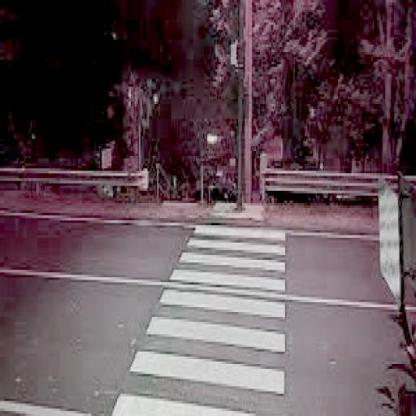crosswalk: (105, 312, 292, 401)
